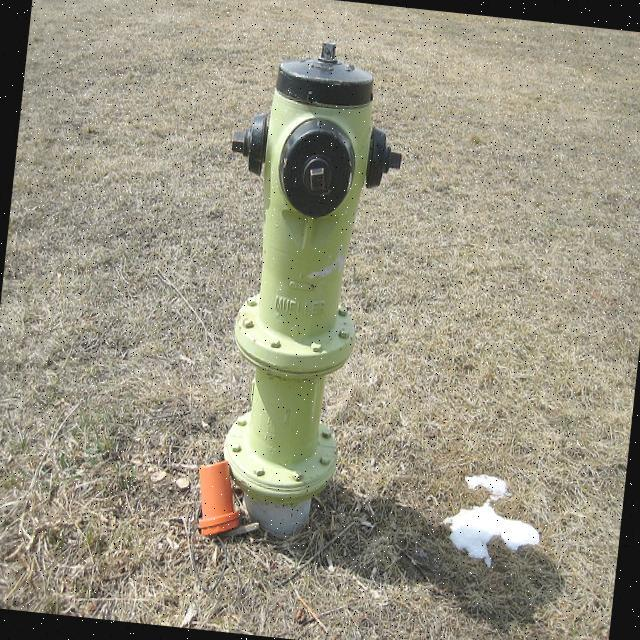fire_hydrant: (188, 28, 418, 552)
